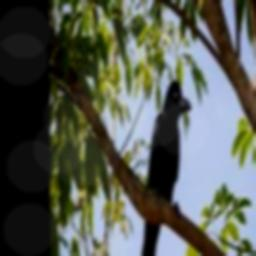Crow: (137, 80, 190, 256)
